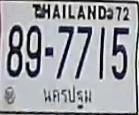1: (99, 26, 103, 80)
5: (111, 27, 128, 79)
7: (58, 25, 74, 79), (75, 26, 91, 80)
8: (8, 24, 22, 76)
9: (25, 25, 41, 77)
NPT: (41, 84, 93, 109)
